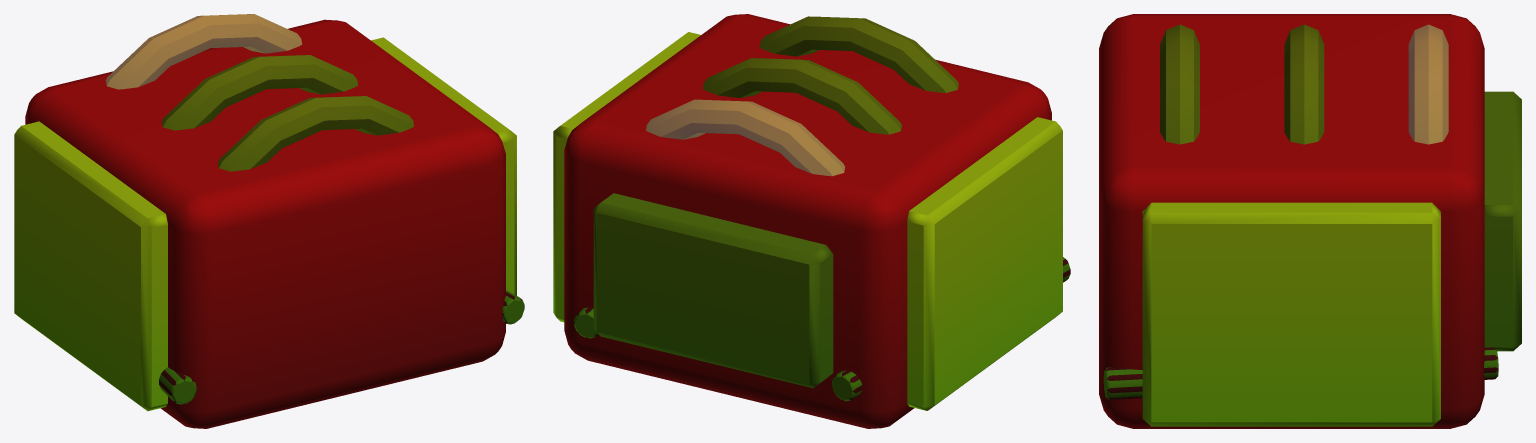
File: RCLModule_gravitas_breaker_quantum_hyperdrive_alloy.fbx
3 renders of one model, left to right at view 1: azimuth 30°, elevation 25°; view 2: azimuth 150°, elevation 25°; view 3: azimuth 270°, elevation 25°, orthographic. The views are drawn at different scales.
Visible parts, largest first — view 1: RCLModule_gravitas_breaker_quantum_hyperdrive_alloy_Batch_RC (×3); view 2: RCLModule_gravitas_breaker_quantum_hyperdrive_alloy_Batch_RC (×3); view 3: RCLModule_gravitas_breaker_quantum_hyperdrive_alloy_Batch_RC (×3).
Part boxes in pixels (box(x1,y1,x2,y2)): RCLModule_gravitas_breaker_quantum_hyperdrive_alloy_Batch_RC (×3): box(14, 14, 524, 428); RCLModule_gravitas_breaker_quantum_hyperdrive_alloy_Batch_RC (×3): box(553, 14, 1070, 428); RCLModule_gravitas_breaker_quantum_hyperdrive_alloy_Batch_RC (×3): box(1099, 14, 1521, 428).
Bounding box in the file's own units: 77.5 × 55.2 × 68.
